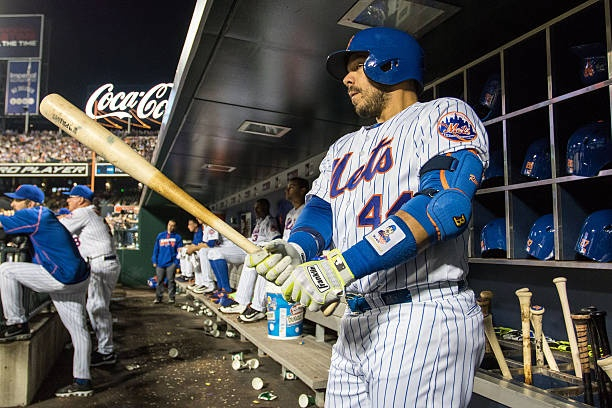bita: (42, 96, 265, 257)
